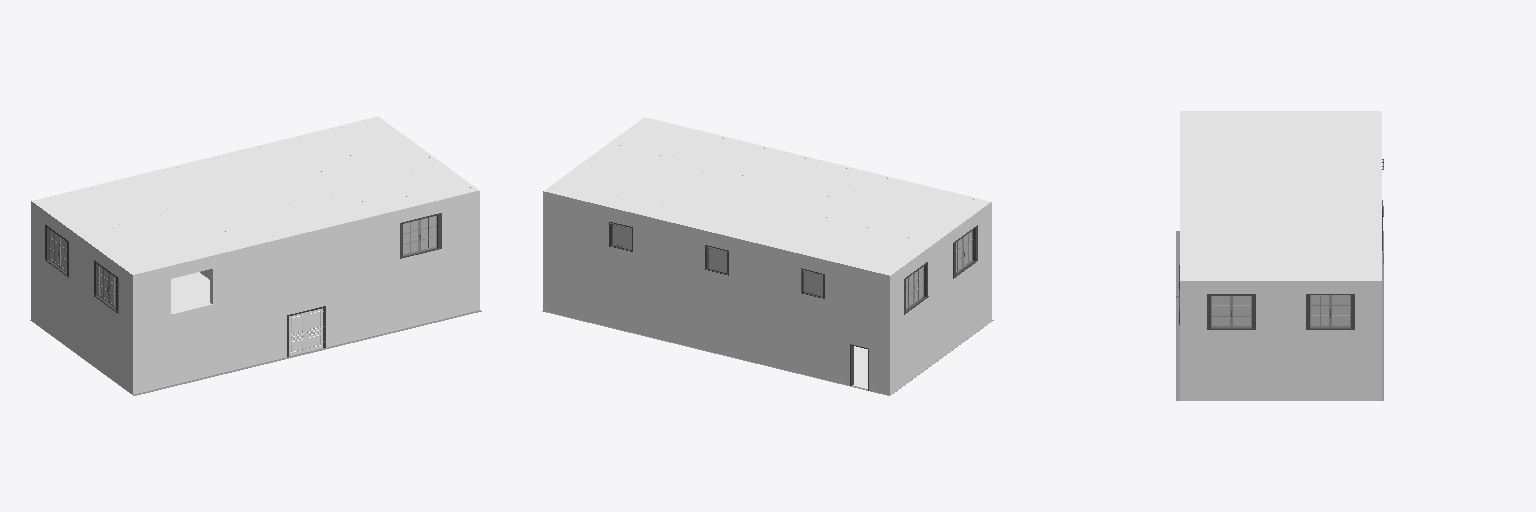
The model's file is House.obj.
The picture shows the model from 3 angles: view 1: azimuth 30°, elevation 25°; view 2: azimuth 150°, elevation 25°; view 3: azimuth 270°, elevation 25°; orthographic projection.
Parts seen in each view (by area): view 1: wall_19_113, room_48_253, wall_35_209, wall_1_5, room_44_245, wall_34_203, room_43_243, wall_23_137, room_50_257, room_51_259, wall_37_221, wall_28_167 (+7 smaller); view 2: wall_33_197, room_48_253, wall_16_95, wall_13_77, wall_1_5, room_44_245, room_43_243, wall_38_227, wall_20_119, room_50_257, room_51_259, wall_28_167 (+5 smaller); view 3: room_48_253, wall_17_101, wall_30_179, room_44_245, room_43_243, room_50_257, room_51_259, wall_29_173, room_49_255, ground_1.
Boxes of the visible parts, box(x1,y1,x2,y2) form: wall_19_113: box(133, 275, 381, 394); room_48_253: box(38, 142, 344, 231); wall_35_209: box(249, 214, 381, 307); wall_1_5: box(31, 261, 132, 394); room_44_245: box(82, 207, 244, 272); wall_34_203: box(133, 247, 248, 335); room_43_243: box(218, 191, 377, 244); wall_23_137: box(421, 250, 479, 323); room_50_257: box(324, 119, 439, 177); room_51_259: box(286, 133, 415, 211); wall_37_221: box(421, 191, 479, 264); wall_28_167: box(76, 234, 132, 334); wall_33_197: box(641, 215, 889, 336); room_48_253: box(645, 167, 929, 272); wall_16_95: box(641, 276, 773, 366); wall_13_77: box(774, 308, 889, 394); wall_1_5: box(890, 262, 991, 395); room_44_245: box(823, 176, 985, 240); room_43_243: box(711, 143, 870, 196); wall_38_227: box(543, 191, 601, 264); wall_20_119: box(543, 251, 601, 324); room_50_257: box(549, 144, 665, 203); room_51_259: box(607, 134, 736, 212); wall_28_167: box(935, 202, 991, 302); room_48_253: box(1250, 113, 1377, 231); wall_17_101: box(1180, 341, 1381, 400); wall_30_179: box(1248, 281, 1381, 342); room_44_245: box(1184, 113, 1289, 166); room_43_243: box(1184, 169, 1245, 231); room_50_257: box(1250, 253, 1377, 278); room_51_259: box(1184, 234, 1377, 250); wall_29_173: box(1180, 281, 1247, 342); room_49_255: box(1184, 253, 1245, 278); ground_1: box(1176, 231, 1383, 400).
Bounding box in the file's own units: 1824 × 600 × 943.